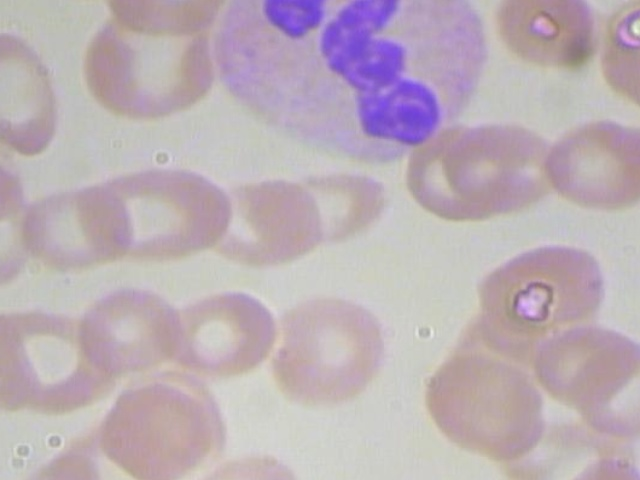RBC: (462, 231, 607, 354), (415, 335, 560, 457), (104, 150, 237, 266), (256, 293, 387, 408), (437, 101, 552, 218), (206, 159, 325, 268), (277, 166, 399, 270), (71, 278, 193, 381), (100, 378, 221, 480), (539, 104, 640, 219), (168, 280, 276, 375), (0, 24, 69, 163)
WBC: (204, 0, 494, 168)
